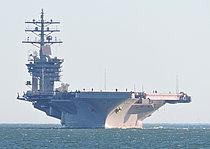MIL_Ship: (15, 8, 192, 130)
